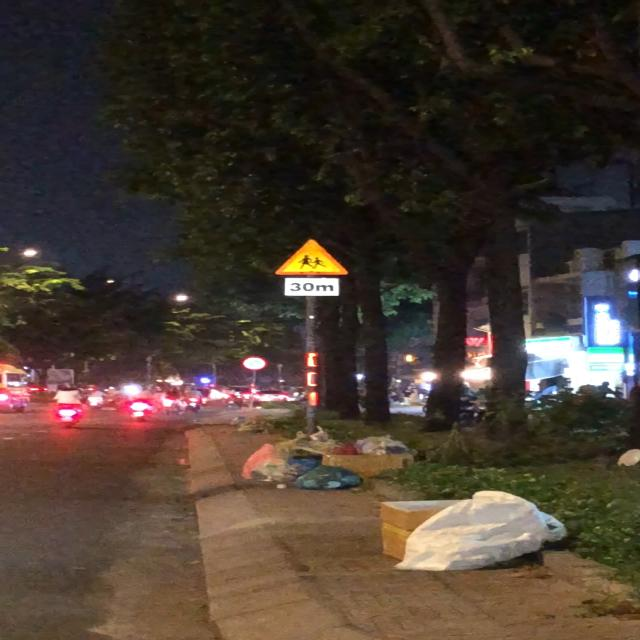Bien bao tre em: (273, 236, 350, 278)
